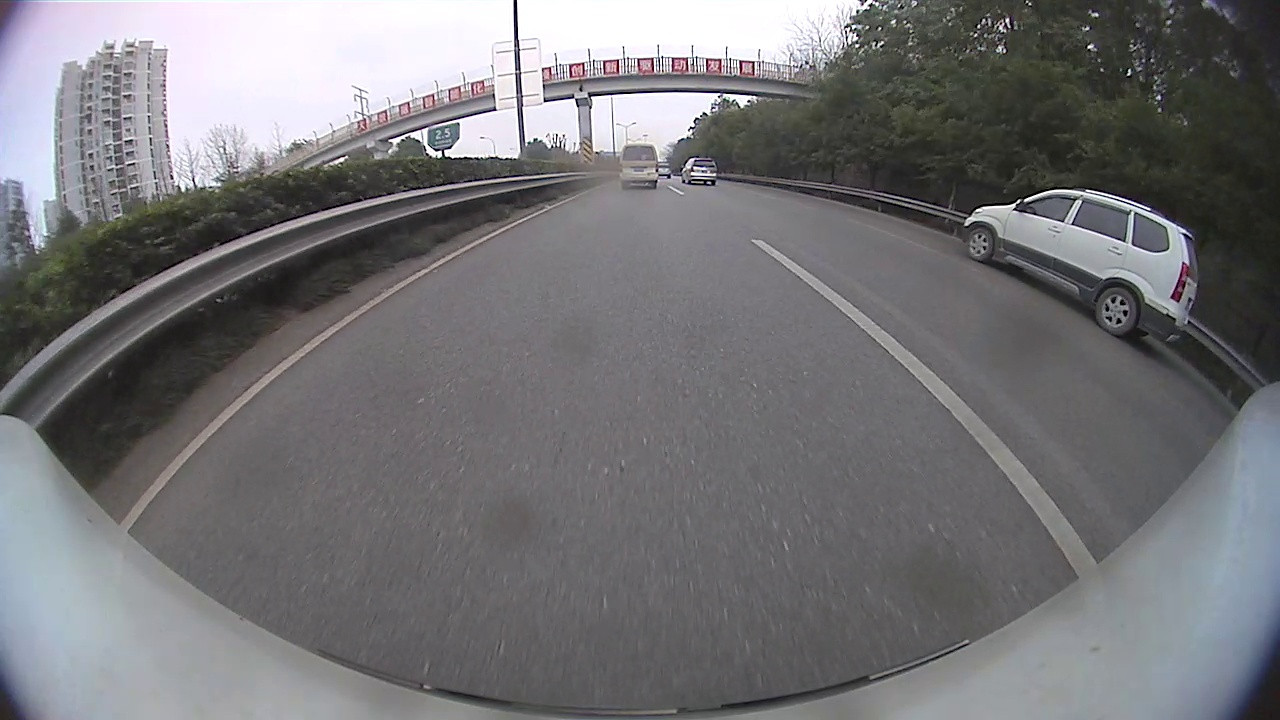car: (960, 185, 1201, 340), (620, 143, 659, 189), (681, 157, 719, 187)
front: (964, 226, 996, 263)
rear: (1095, 288, 1137, 335)
